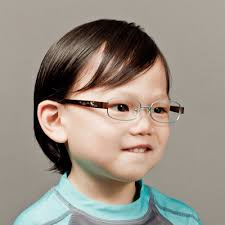person: (33, 19, 184, 185)
